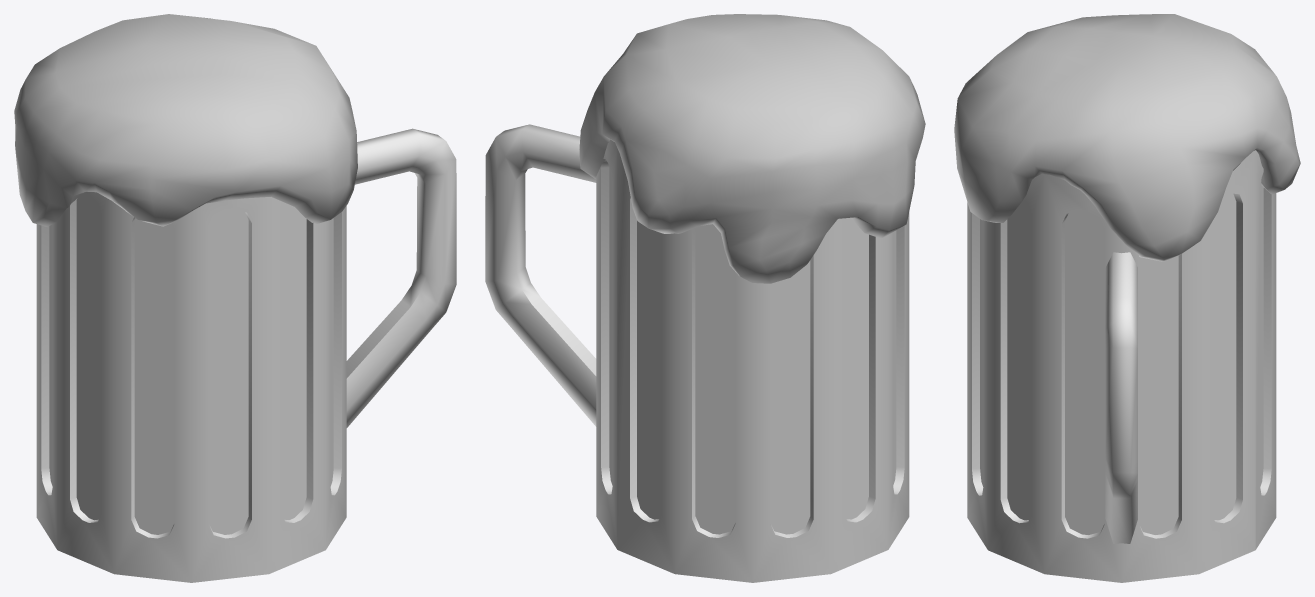
The model's file is BeerJug_03.fbx.
The picture shows the model from 3 angles, left to right: view 1: azimuth 30°, elevation 25°; view 2: azimuth 150°, elevation 25°; view 3: azimuth 270°, elevation 25°; orthographic projection.
Parts seen in each view (by area): view 1: BeerJug_03; view 2: BeerJug_03; view 3: BeerJug_03.
Boxes of the visible parts, left/top/right/bottom form: BeerJug_03: left=14, top=14, right=456, bottom=582; BeerJug_03: left=485, top=14, right=925, bottom=582; BeerJug_03: left=954, top=14, right=1300, bottom=582.
Size of the model in its own units: 0.2009 by 0.2162 by 0.1452.
